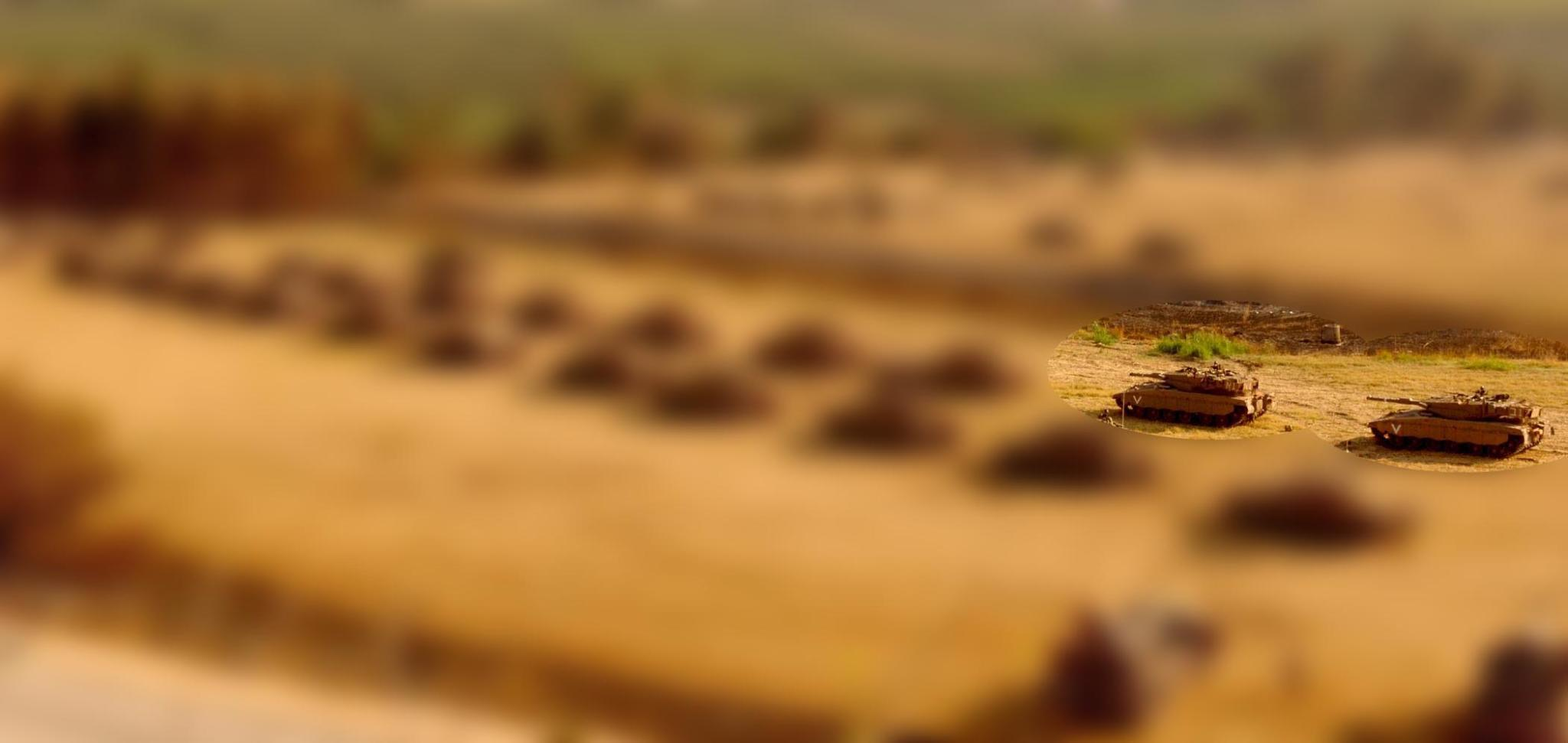tank: (1368, 389, 1549, 460), (1110, 362, 1277, 432)
